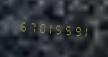five: (53, 19, 61, 37), (62, 20, 70, 38)
nine: (71, 21, 79, 39)
one: (44, 19, 52, 36), (80, 22, 88, 39)
seven: (26, 17, 34, 35)
six: (17, 16, 25, 34)
zero: (35, 18, 43, 36)
